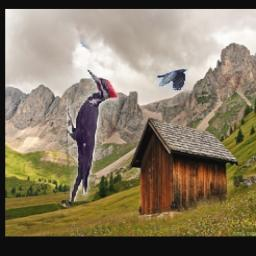Crow: (157, 69, 188, 92)
Woodpecker: (67, 68, 119, 202)
